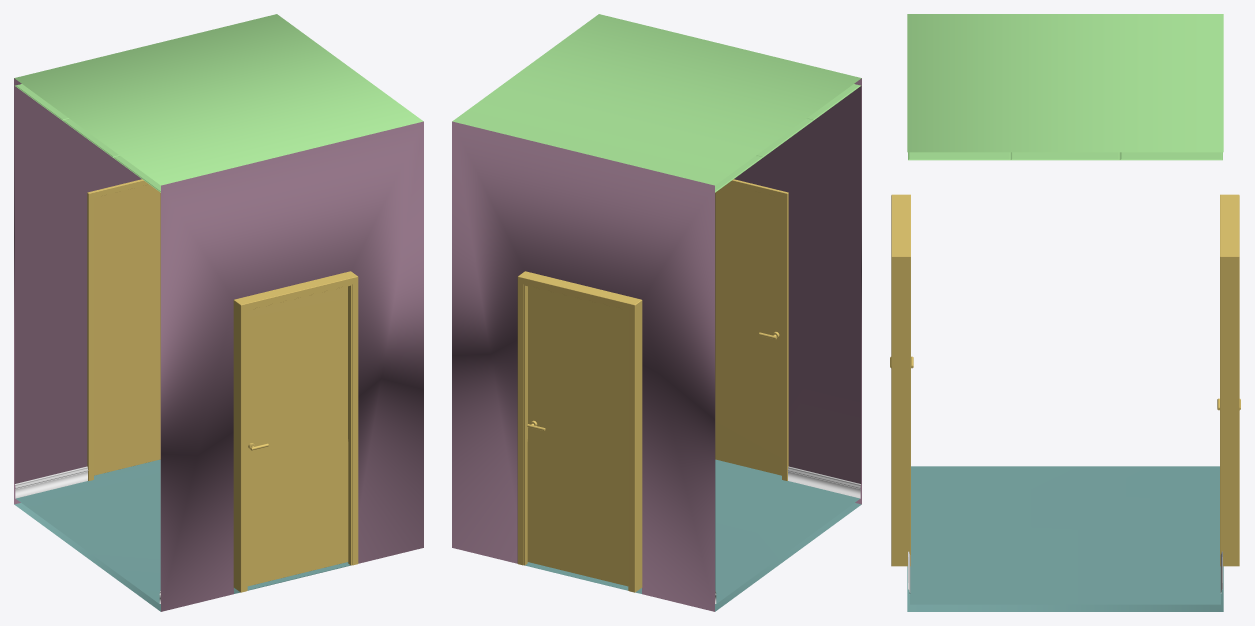
The model's file is Corridor_2_doors_w_light.fbx.
3 renders of one model, left to right at view 1: azimuth 30°, elevation 25°; view 2: azimuth 150°, elevation 25°; view 3: azimuth 270°, elevation 25°, orthographic. The views are drawn at different scales.
Parts seen in each view (by area): view 1: Corridor_wall_door_2_holes, Door (×2), Doorframe (×2), Corridor_ceiling_w_light; view 2: Corridor_wall_door_2_holes, Door (×2), Doorframe (×2), Corridor_ceiling_w_light; view 3: Corridor_wall_door_2_holes, Doorframe (×2), Corridor_ceiling_w_light.
Boxes of the visible parts, <box> form: Corridor_wall_door_2_holes: <box>14,14,423,611</box>; Door (×2): <box>94,184,348,586</box>; Doorframe (×2): <box>87,179,358,592</box>; Corridor_ceiling_w_light: <box>15,84,160,192</box>; Corridor_wall_door_2_holes: <box>452,14,861,611</box>; Door (×2): <box>527,184,781,586</box>; Doorframe (×2): <box>517,179,788,592</box>; Corridor_ceiling_w_light: <box>715,84,860,192</box>; Corridor_wall_door_2_holes: <box>907,14,1223,611</box>; Doorframe (×2): <box>891,194,1239,566</box>; Corridor_ceiling_w_light: <box>908,152,1222,160</box>.
Size of the model in its own units: 2 by 3.1 by 2.14.
